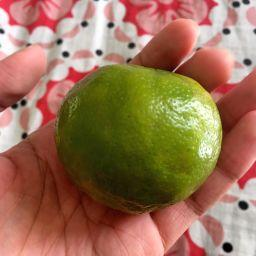Unripe: (57, 64, 223, 213)
